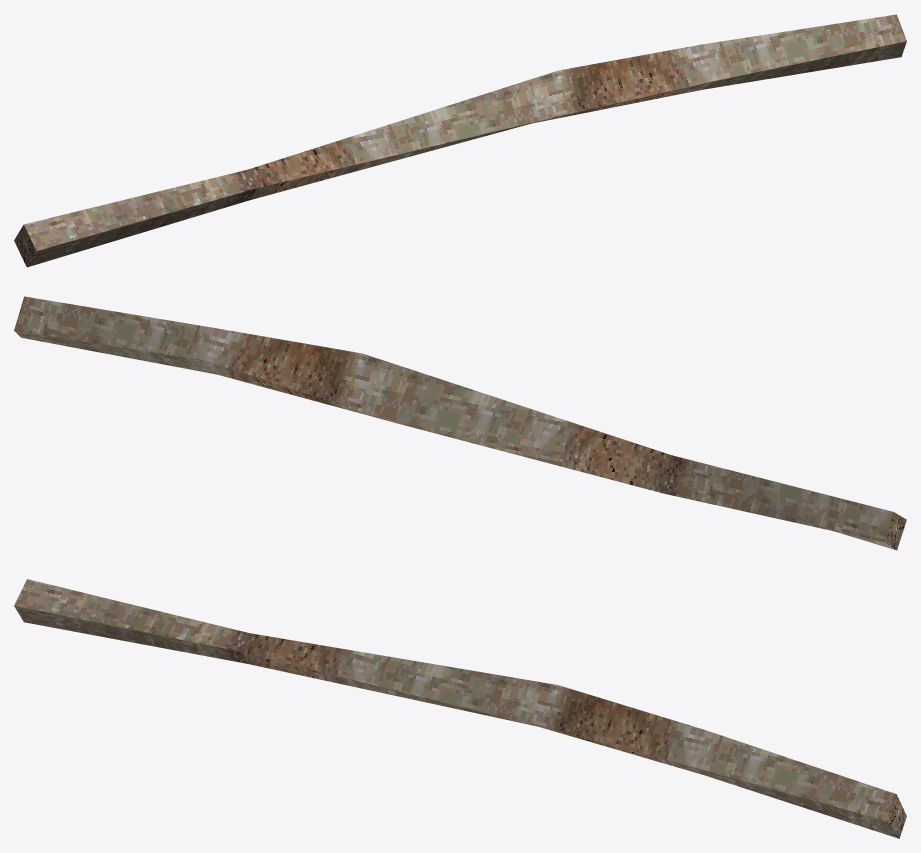
File: wooden_fence_beam_alt_2.glb
3 renders of one model, top to bottom at view 1: azimuth 30°, elevation 25°; view 2: azimuth 150°, elevation 25°; view 3: azimuth 330°, elevation 25°, orthographic.
Visible parts, largest first — view 1: wooden_fence_beam_alt_2; view 2: wooden_fence_beam_alt_2; view 3: wooden_fence_beam_alt_2.
Part boxes in pixels (left/top/right/bottom): wooden_fence_beam_alt_2: left=14, top=14, right=906, bottom=267; wooden_fence_beam_alt_2: left=14, top=296, right=906, bottom=550; wooden_fence_beam_alt_2: left=14, top=579, right=906, bottom=838.
Bounding box in the file's own units: 2.02 × 0.1519 × 0.1312.
Materials: 1 (1 with a texture image).
